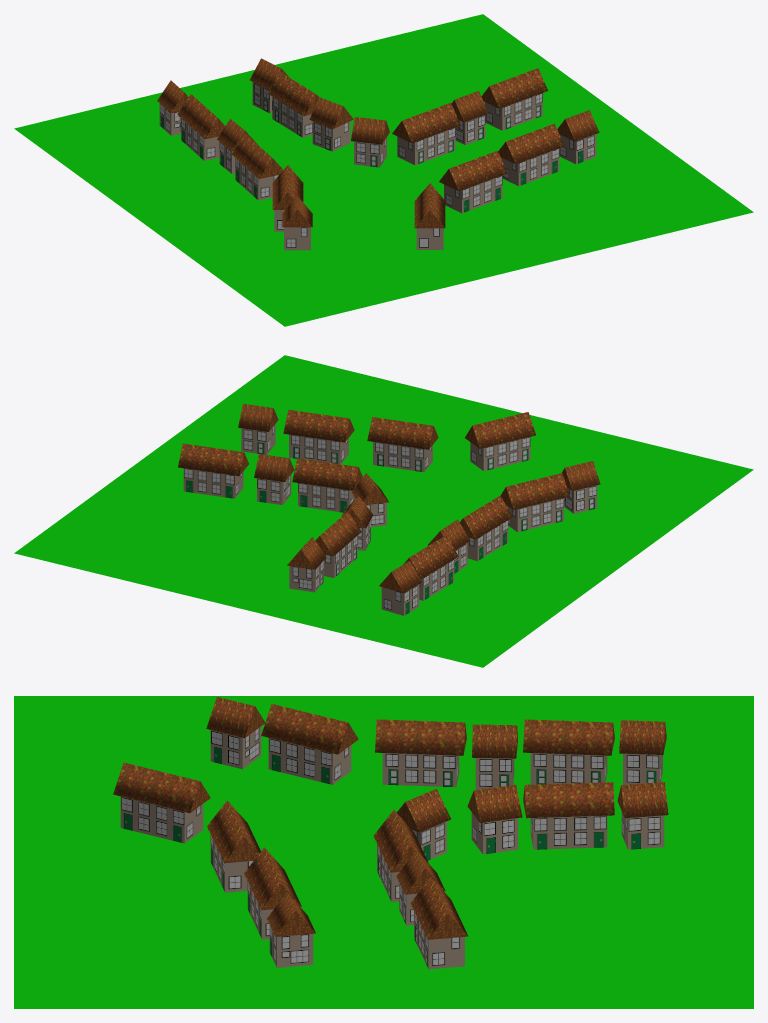
The model's file is village.glb.
The picture shows the model from 3 angles, top to bottom: view 1: azimuth 30°, elevation 25°; view 2: azimuth 150°, elevation 25°; view 3: azimuth 270°, elevation 25°; orthographic projection. The views are drawn at different scales.
Visible parts, largest first — view 1: ground, box_merged (×2), house6, house2, house4, house9, house11, house13, house3, house8, house7, house5 (+5 smaller); view 2: ground, box_merged (×2), house4, house2, house3, house15, house6, house11, house13, house9, house14, house5 (+5 smaller); view 3: ground, house3, house15, house9, house11, house13, box_merged (×2), house4, house16, house2, house8, house10 (+5 smaller).
Boxes of the visible parts, <box> form: ground: <box>14,14,753,326</box>; box_merged (×2): <box>498,110,599,186</box>; house6: <box>392,102,460,165</box>; house2: <box>439,150,507,213</box>; house4: <box>481,68,547,130</box>; house9: <box>268,72,319,137</box>; house11: <box>231,133,282,200</box>; house13: <box>177,94,224,160</box>; house3: <box>414,183,445,249</box>; house8: <box>309,97,353,151</box>; house7: <box>351,117,389,167</box>; house5: <box>451,90,488,144</box>; ground: <box>14,355,753,667</box>; box_merged (×2): <box>238,403,354,464</box>; house4: <box>178,443,248,498</box>; house2: <box>367,417,438,472</box>; house3: <box>465,412,535,470</box>; house15: <box>500,473,569,532</box>; house6: <box>292,458,362,512</box>; house11: <box>459,495,512,560</box>; house13: <box>403,535,458,600</box>; house9: <box>315,511,361,577</box>; house14: <box>379,560,421,615</box>; house5: <box>254,454,294,504</box>; ground: <box>14,696,753,1008</box>; house3: <box>113,762,210,843</box>; house15: <box>261,704,358,784</box>; house9: <box>523,782,614,849</box>; house11: <box>375,719,466,787</box>; house13: <box>523,719,614,784</box>; box_merged (×2): <box>244,847,315,967</box>; house4: <box>410,877,468,969</box>; house16: <box>206,697,265,769</box>; house2: <box>207,800,260,892</box>; house8: <box>467,784,522,854</box>; house10: <box>617,782,668,849</box>.
Bounding box in the file's own units: 20 × 1.71 × 20.
5 materials, 4 textured.
